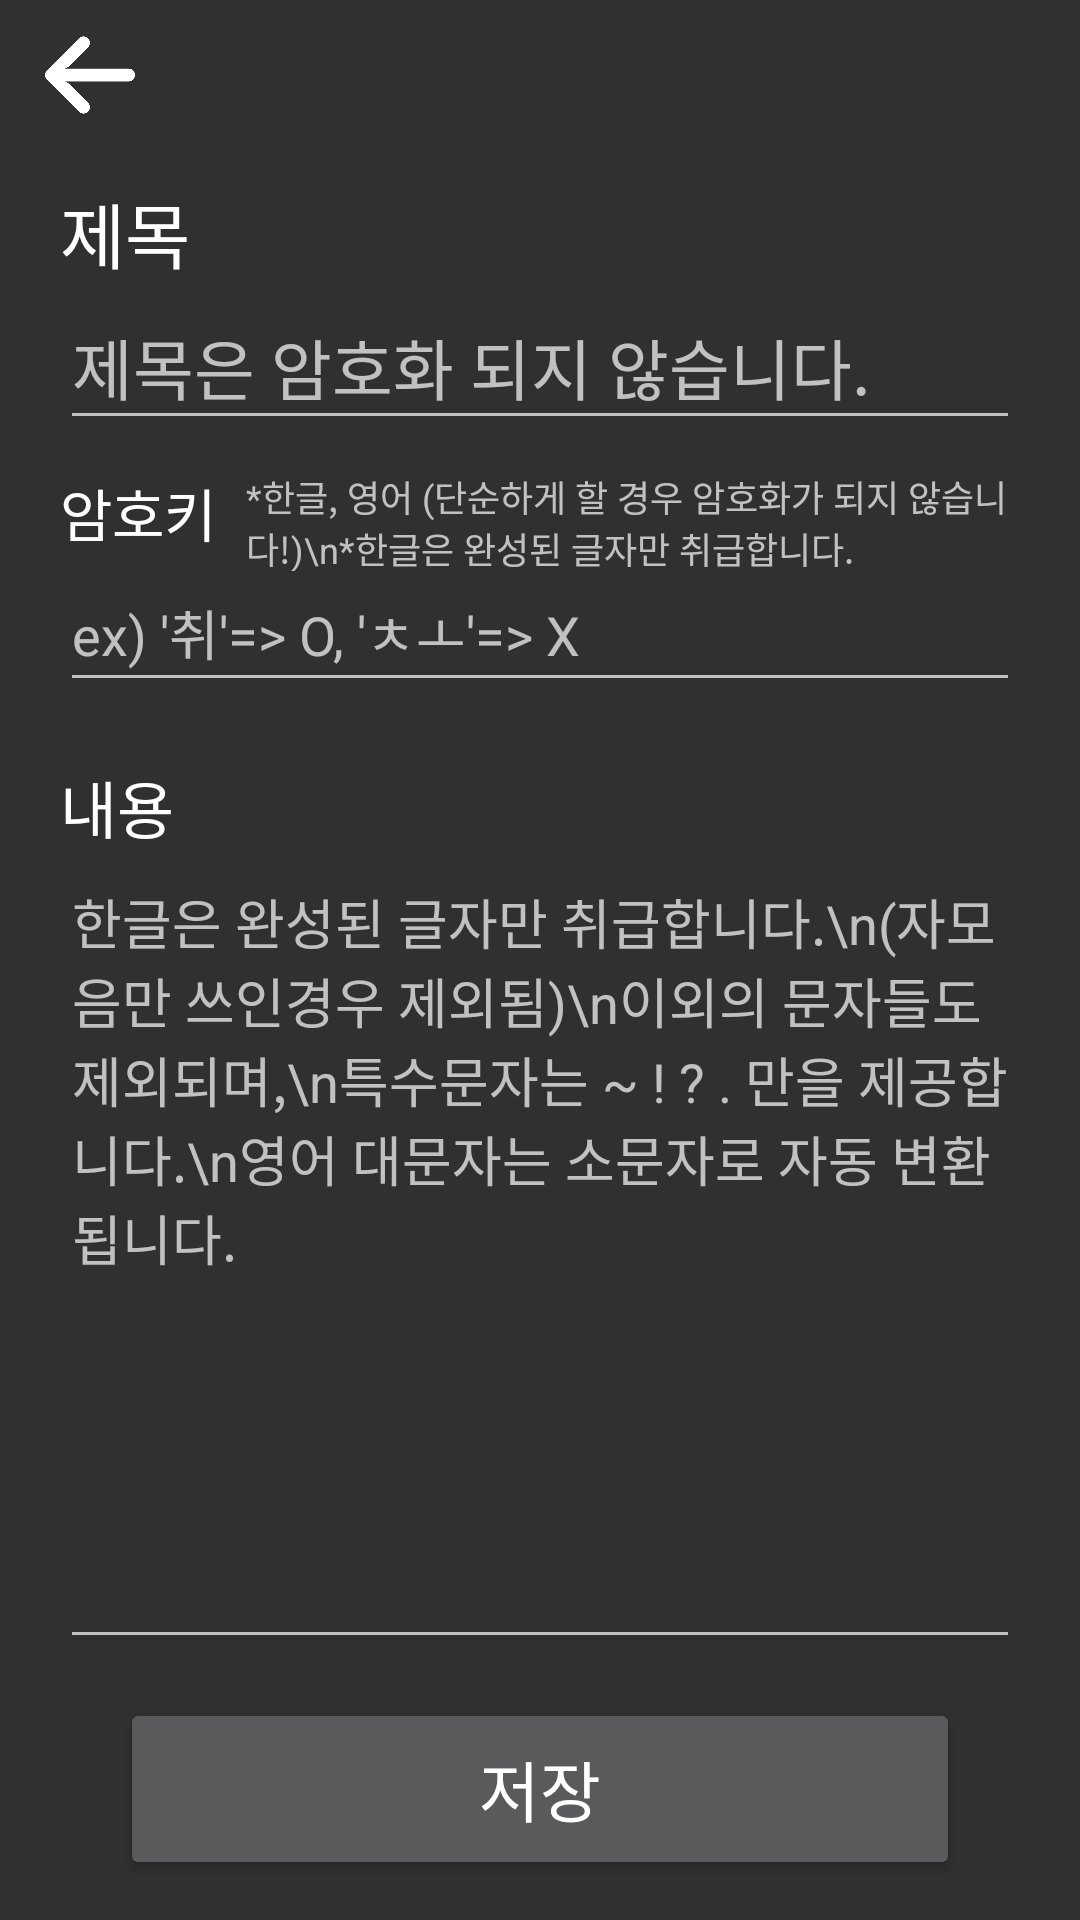

Icon click points for this 1080px x 1920px phone screenshot, format (x=x, y=y):
arrow: (x=90, y=75)
